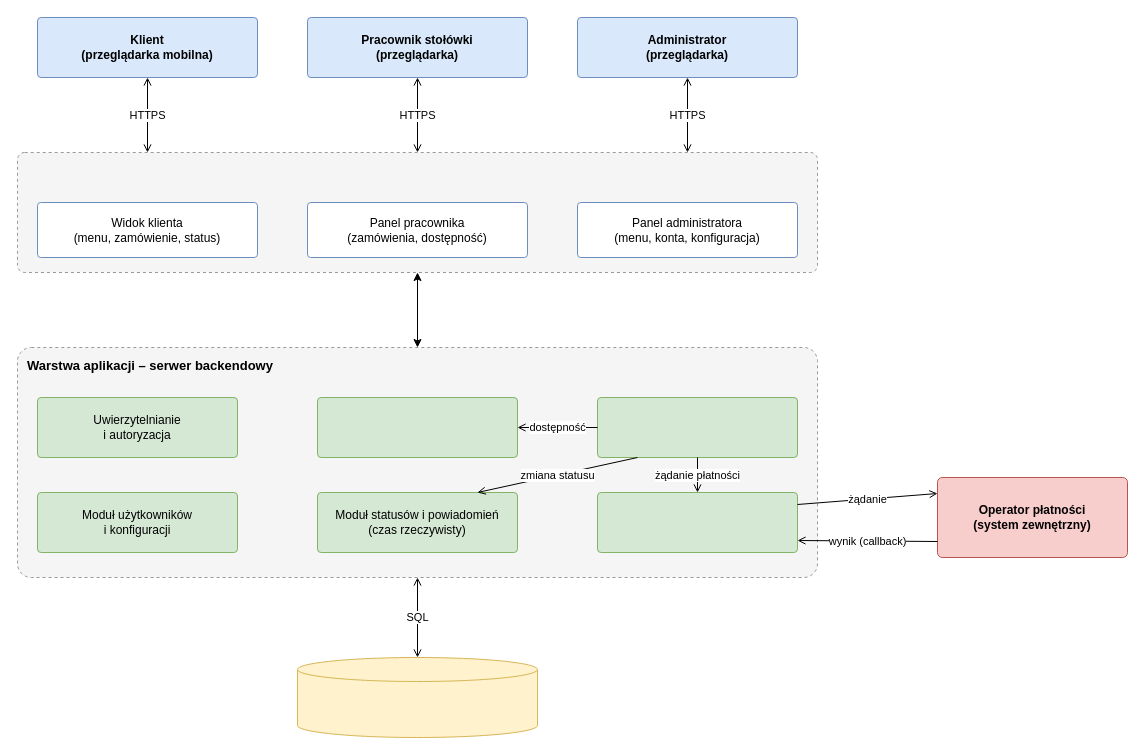
The diagram is 1145 pixels wide and 755 high, and some of its shapes have lost their labels. Each missing label, with the box of its shape:
Baza danych relacyjna (menu, zamówienia, użytkownicy, płatności): (296, 656, 538, 738)
Moduł menu i dostępności dań: (316, 396, 518, 458)
Moduł płatności (adapter operatora): (596, 492, 798, 552)
Moduł zamówień: (596, 396, 798, 458)
Warstwa prezentacji – aplikacja webowa: (16, 152, 818, 272)
